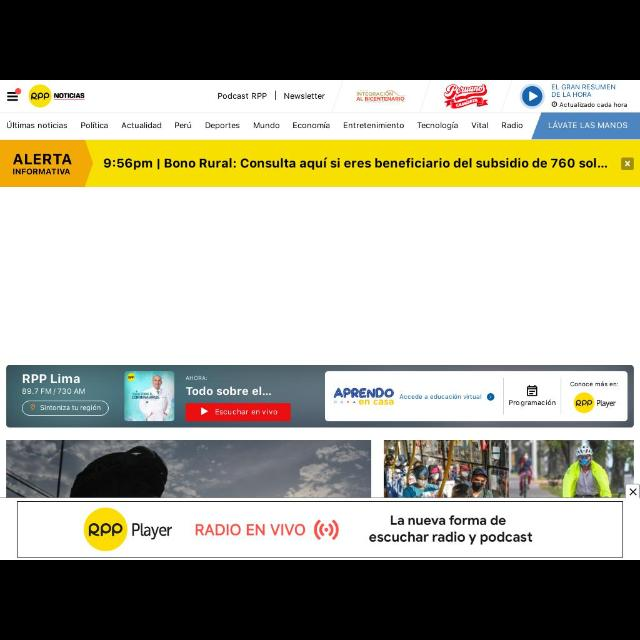button: (626, 484, 640, 498), (623, 156, 633, 168)
icon: (6, 90, 20, 102), (626, 486, 638, 496), (626, 160, 630, 166)
iframe: (6, 364, 632, 426), (18, 502, 624, 558)
image: (7, 439, 371, 497), (382, 438, 626, 498), (126, 372, 172, 422), (434, 82, 498, 108), (353, 90, 405, 102), (517, 84, 543, 108)
multitab: (3, 113, 639, 139)
text: (104, 156, 610, 168), (8, 146, 72, 178), (28, 84, 86, 106), (548, 82, 620, 98), (548, 118, 628, 130), (6, 120, 66, 130), (203, 118, 240, 132), (342, 122, 404, 130), (252, 117, 282, 131), (416, 120, 458, 130), (558, 101, 624, 107), (120, 121, 162, 129), (284, 92, 324, 100), (80, 120, 108, 130), (174, 120, 192, 132), (217, 94, 267, 98), (502, 122, 522, 132), (472, 121, 488, 131), (295, 124, 329, 128)
toolbar: (1, 80, 639, 112)
